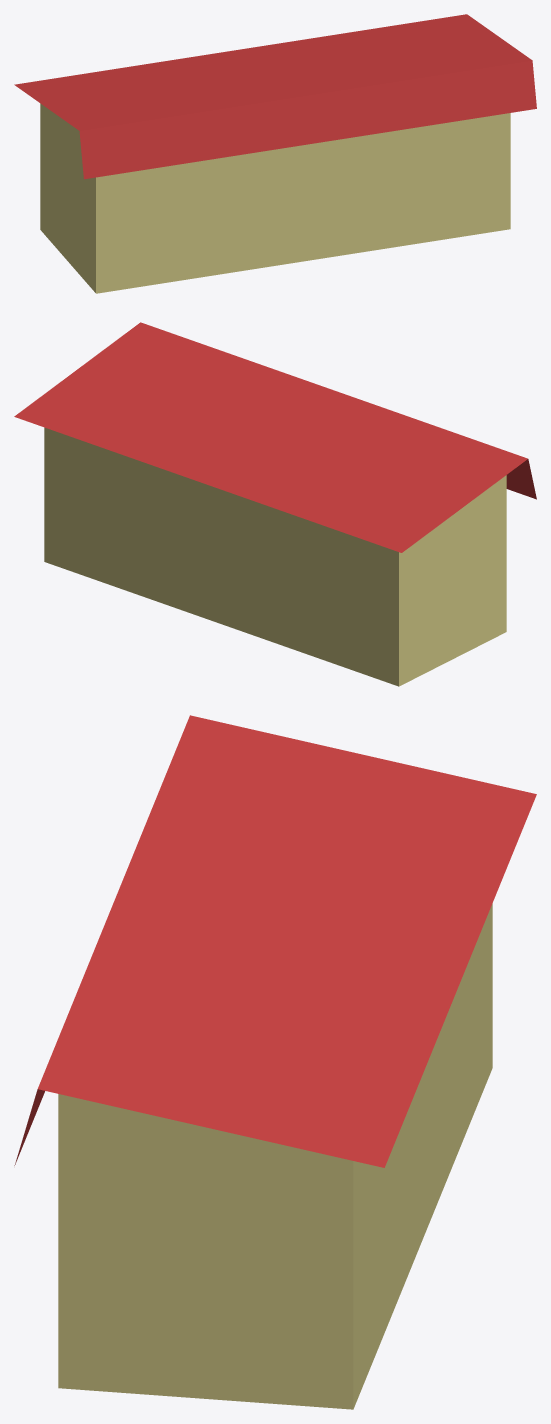
3 renders of one model, top to bottom at view 1: azimuth 30°, elevation 25°; view 2: azimuth 150°, elevation 25°; view 3: azimuth 270°, elevation 25°, orthographic. The views are drawn at different scales.
Size of the model in its own units: 24.79 by 13.67 by 9.06.
